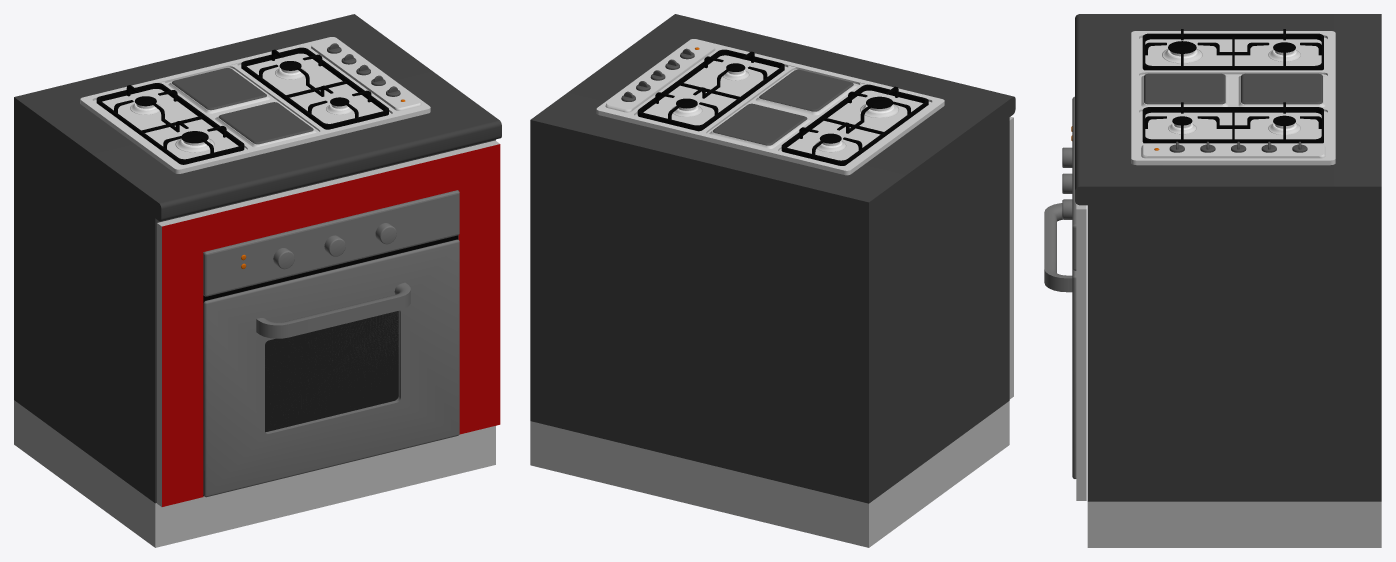
The model's file is cucina2.obj.
3 renders of one model, left to right at view 1: azimuth 30°, elevation 25°; view 2: azimuth 150°, elevation 25°; view 3: azimuth 270°, elevation 25°, orthographic. The views are drawn at different scales.
Visible parts, largest first — view 1: Box10_2, ChamferBox02_7, Line0911_5, Line15_1, Box11_3, Box13_8, Rectangle02_16, Box12_10, ChamferBox01_6, Line09_4, Loft05_9, Rectangle08_56 (+5 smaller); view 2: Box10_2, Line15_1, Box11_3, Rectangle02_16, Rectangle08_56, Rectangle07_55, Rectangle01_17, Rectangle06_35, Rectangle04_18, Line09_4, Line49_53; view 3: Box10_2, Line15_1, Box11_3, Rectangle02_16, Line09_4, Rectangle08_56, Rectangle07_55, Rectangle01_17, Rectangle04_18, Rectangle06_35, Loft05_9, ChamferBox02_7 (+4 smaller).
Boxes of the visible parts, x1,y1,x2,y2 form: Box10_2: [14, 115, 495, 503]; ChamferBox02_7: [203, 239, 459, 497]; Line0911_5: [162, 144, 500, 506]; Line15_1: [14, 14, 501, 221]; Box11_3: [14, 400, 495, 547]; Box13_8: [203, 235, 458, 496]; Rectangle02_16: [80, 37, 430, 173]; Box12_10: [265, 311, 399, 432]; ChamferBox01_6: [203, 190, 459, 296]; Line09_4: [157, 140, 499, 506]; Loft05_9: [256, 282, 410, 338]; Rectangle08_56: [218, 102, 313, 144]; Box10_2: [530, 117, 1009, 503]; Line15_1: [530, 14, 1015, 219]; Box11_3: [530, 401, 1009, 547]; Rectangle02_16: [596, 39, 944, 175]; Rectangle08_56: [759, 69, 853, 111]; Rectangle07_55: [712, 103, 807, 145]; Rectangle01_17: [605, 42, 715, 112]; Rectangle06_35: [637, 49, 784, 131]; Rectangle04_18: [781, 84, 928, 165]; Line09_4: [1009, 116, 1013, 399]; Line49_53: [699, 65, 798, 133]; Box10_2: [1087, 205, 1381, 501]; Line15_1: [1075, 14, 1381, 205]; Box11_3: [1087, 501, 1381, 547]; Rectangle02_16: [1131, 31, 1335, 165]; Line09_4: [1076, 204, 1086, 500]; Rectangle08_56: [1144, 73, 1225, 104]; Rectangle07_55: [1241, 73, 1322, 104]; Rectangle01_17: [1141, 143, 1325, 158]; Rectangle04_18: [1142, 33, 1323, 70]; Rectangle06_35: [1142, 107, 1323, 143]; Loft05_9: [1044, 203, 1072, 292]; ChamferBox02_7: [1072, 268, 1076, 478].
Size of the model in its own units: 80 by 81.1 by 66.01.
